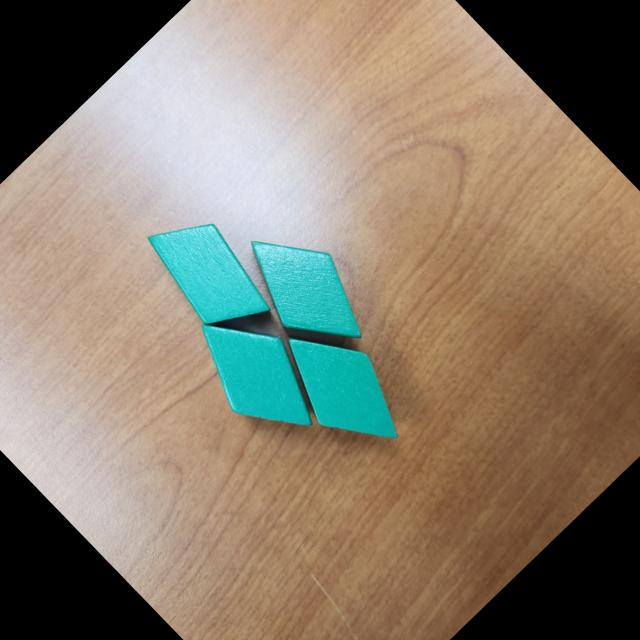green: (174, 290, 343, 460), (259, 302, 426, 470), (225, 208, 386, 372), (132, 198, 282, 348)
